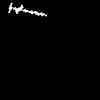double_crochet: (9, 3, 46, 15)
